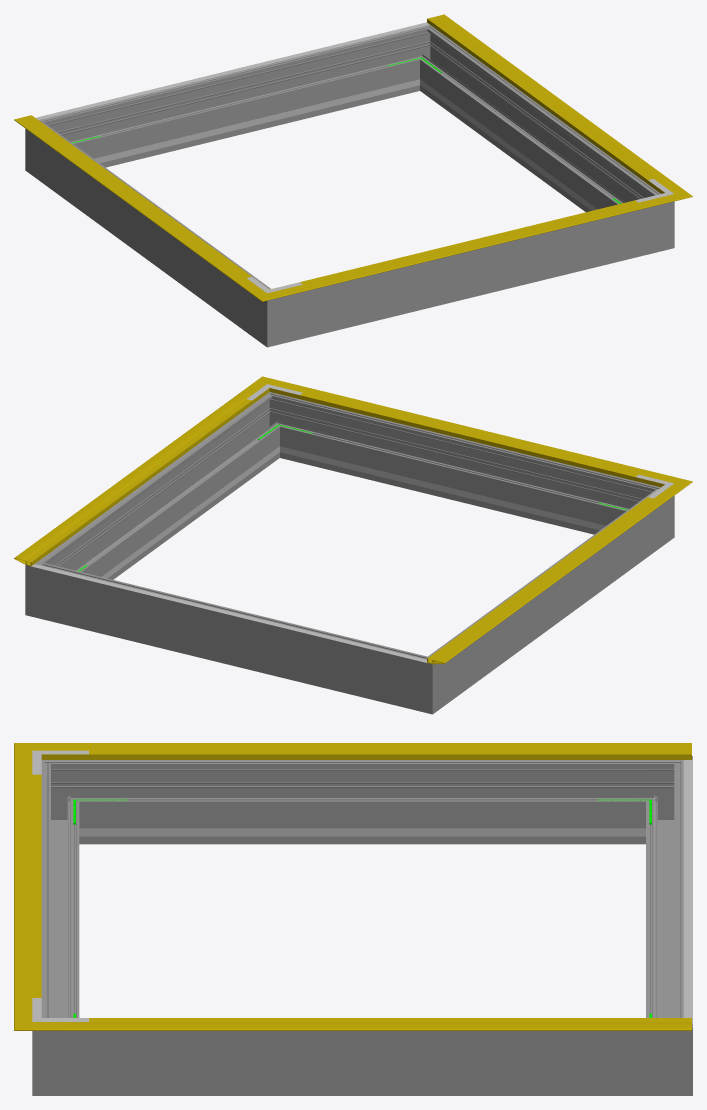
3 views of the same model, one above another, from view 1: azimuth 30°, elevation 25°; view 2: azimuth 150°, elevation 25°; view 3: azimuth 270°, elevation 25° (orthographic). The views are drawn at different scales.
Parts seen in each view (by area): view 1: 3DGeom-276, 3DGeom-298, 3DGeom-297, 3DGeom-268, 3DGeom-145, 3DGeom-147, 3DGeom-141, 3DGeom-270, 3DGeom-290, 3DGeom-244, 3DGeom-284, 3DGeom-220 (+5 smaller); view 2: 3DGeom-298, 3DGeom-276, 3DGeom-297, 3DGeom-268, 3DGeom-141, 3DGeom-145, 3DGeom-147, 3DGeom-278, 3DGeom-284, 3DGeom-239, 3DGeom-290, 3DGeom-220 (+7 smaller); view 3: 3DGeom-268, 3DGeom-297, 3DGeom-147, 3DGeom-298, 3DGeom-276, 3DGeom-145, 3DGeom-141, 3DGeom-232, 3DGeom-284, 3DGeom-290, 3DGeom-154, 3DGeom-278 (+6 smaller).
Boxes of the visible parts, <box> form: 3DGeom-276: <box>64,32,413,167</box>; 3DGeom-298: <box>303,210,638,338</box>; 3DGeom-297: <box>423,37,647,212</box>; 3DGeom-268: <box>46,132,257,331</box>; 3DGeom-145: <box>427,14,671,188</box>; 3DGeom-147: <box>14,116,252,286</box>; 3DGeom-141: <box>291,200,656,292</box>; 3DGeom-270: <box>246,279,302,347</box>; 3DGeom-290: <box>638,184,674,256</box>; 3DGeom-244: <box>107,88,385,161</box>; 3DGeom-284: <box>400,25,447,93</box>; 3DGeom-220: <box>36,22,429,120</box>; 3DGeom-298: <box>285,399,635,534</box>; 3DGeom-276: <box>61,569,403,705</box>; 3DGeom-297: <box>52,404,276,579</box>; 3DGeom-268: <box>442,499,653,698</box>; 3DGeom-141: <box>288,385,656,483</box>; 3DGeom-145: <box>14,391,258,565</box>; 3DGeom-147: <box>427,493,671,664</box>; 3DGeom-278: <box>397,646,453,714</box>; 3DGeom-284: <box>25,551,67,623</box>; 3DGeom-239: <box>314,454,592,528</box>; 3DGeom-290: <box>252,392,299,459</box>; 3DGeom-220: <box>31,564,426,662</box>; 3DGeom-268: <box>89,760,636,844</box>; 3DGeom-297: <box>89,1031,636,1095</box>; 3DGeom-147: <box>70,743,691,759</box>; 3DGeom-298: <box>41,780,79,1017</box>; 3DGeom-276: <box>646,780,683,1017</box>; 3DGeom-145: <box>70,1022,691,1030</box>; 3DGeom-141: <box>14,766,32,1005</box>; 3DGeom-232: <box>134,828,591,836</box>; 3DGeom-284: <box>636,1003,692,1095</box>; 3DGeom-290: <box>32,1003,88,1095</box>; 3DGeom-154: <box>89,750,691,754</box>; 3DGeom-278: <box>636,756,692,844</box>.
Size of the model in its own units: 1.83 by 0.2195 by 1.83.
